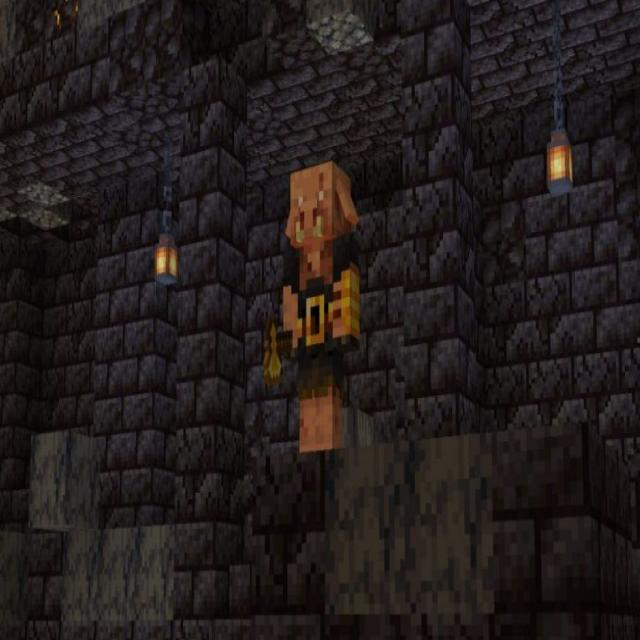Piglin: (262, 159, 362, 457)
